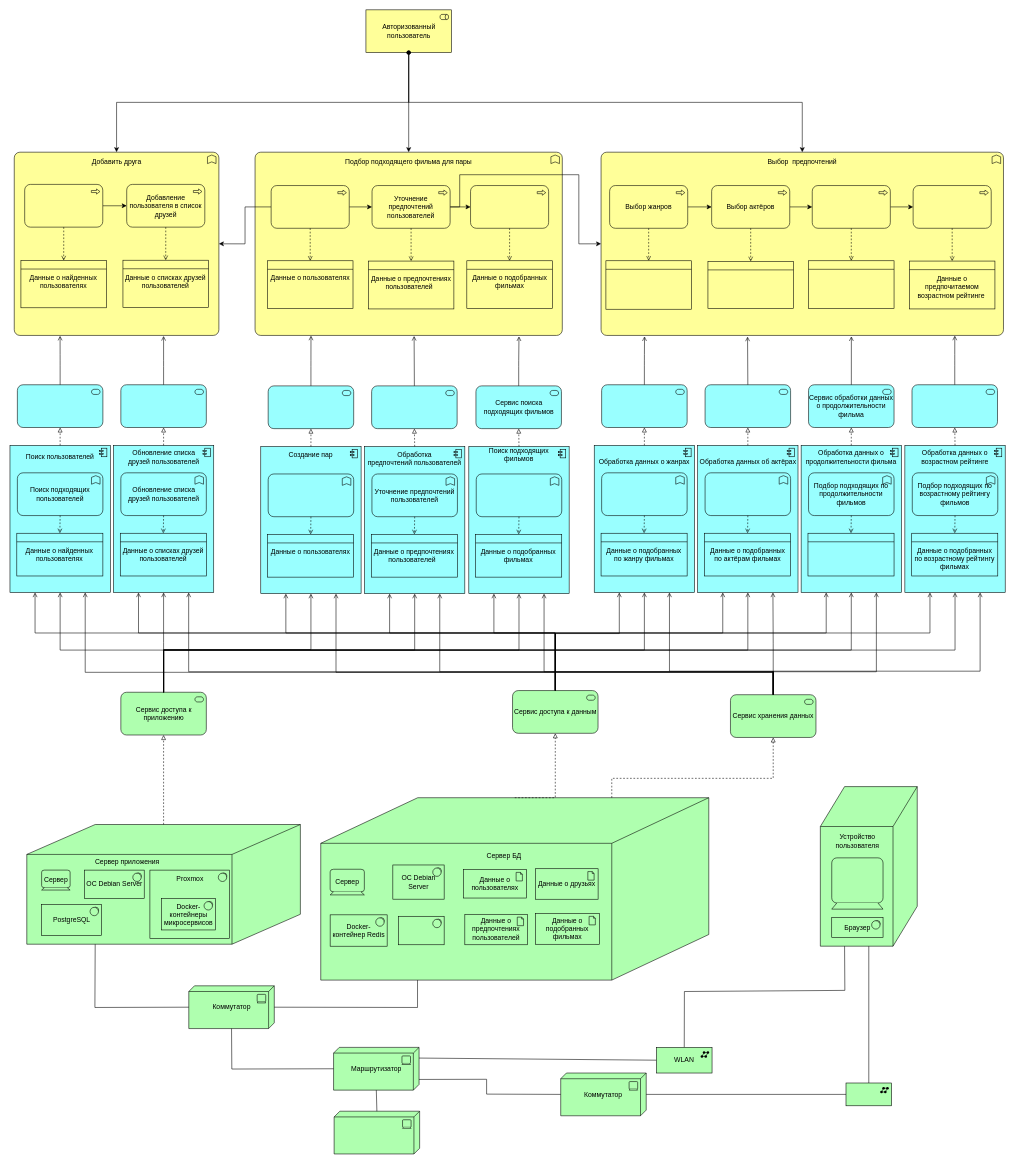
The diagram is 1015 pixels wide and 1165 high, and some of its shapes have lost their labels. The shapes that lost their labels are listed below. From the top down, each one's centre as x and y in pixels, then its label:
At pixel 63 205: "Поиск пользователя по никнейму".
At pixel 310 206: "Добавление друга в пару для подбора фильма".
At pixel 509 206: "Подбор подходящего фильма".
At pixel 851 206: "Выбор продолжительности фильмов".
At pixel 952 206: "Выбор возрастного рейтинга".
At pixel 648 284: "Данные о предпочитаемых жанрах".
At pixel 750 285: "Данные о предпочитаемых актёрах".
At pixel 851 284: "Данные о предпочитаемой продолжительности фильмов".
At pixel 60 405: "Сервис поиска пользователей".
At pixel 163 405: "Сервис обновления списка друзей пользователей".
At pixel 311 407: "Сервис создания пар".
At pixel 414 407: "Сервис обработки предпочтений пользователей".
At pixel 644 405: "Сервис обработки данных о жанрах".
At pixel 748 405: "Сервис обработки данных об актёрах".
At pixel 954 405: "Сервис обработки данных о возрастном рейтинге".
At pixel 311 495: "Добавление пользователей в пару".
At pixel 519 495: "Поиск подходящих по предпочтениям пользователей фильмов".
At pixel 644 494: "Подбор подходящих по жанру фильмов".
At pixel 748 494: "Подбор подходящих по актёрам фильмов".
At pixel 850 554: "Данные о подобранных по продолжительности фильмах".
At pixel 857 883: "Персональный компьютер с доступом в интернет".
At pixel 421 930: "Docker-контейнер PostgreSQL".
At pixel 868 1094: "LAN".
At pixel 377 1132: "Брандмауэр".
